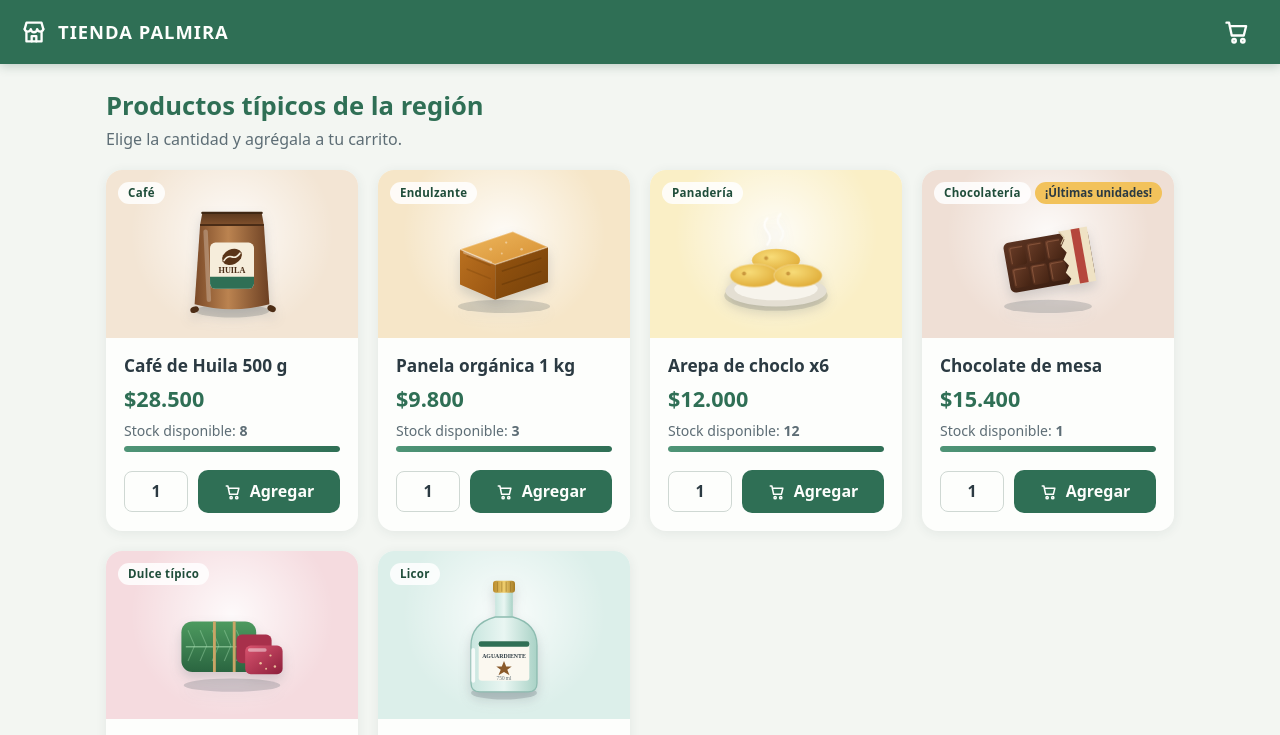
Test: Casos de prueba del instructor › 6. Panela (stock 3): agregar 2 y luego 2 más queda en 3 con toast
The image size is (1280, 735).
Replace the text in the number field named "Cantidad de Panela orgánica 1 kg" with "2" at (428, 492), box [396,471,460,512]
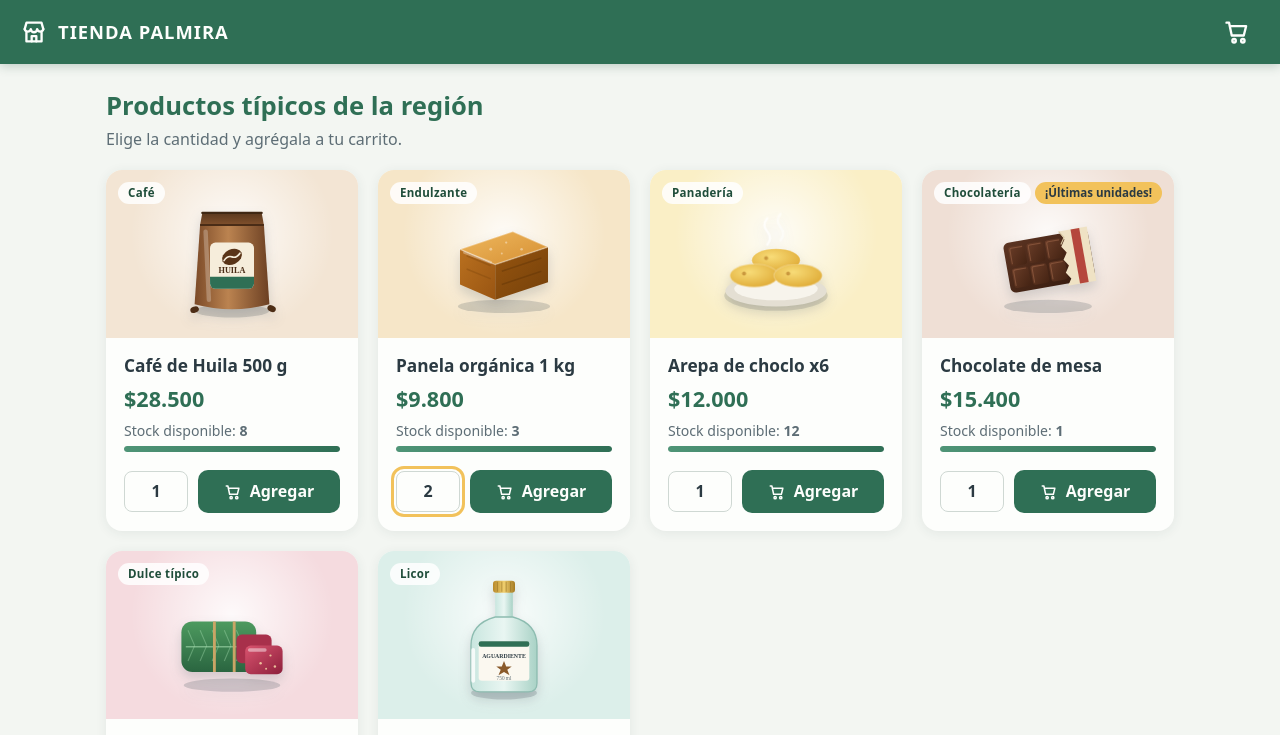
Click the button "Agregar" below "$9.800" at (541, 492), box [470,470,612,513]
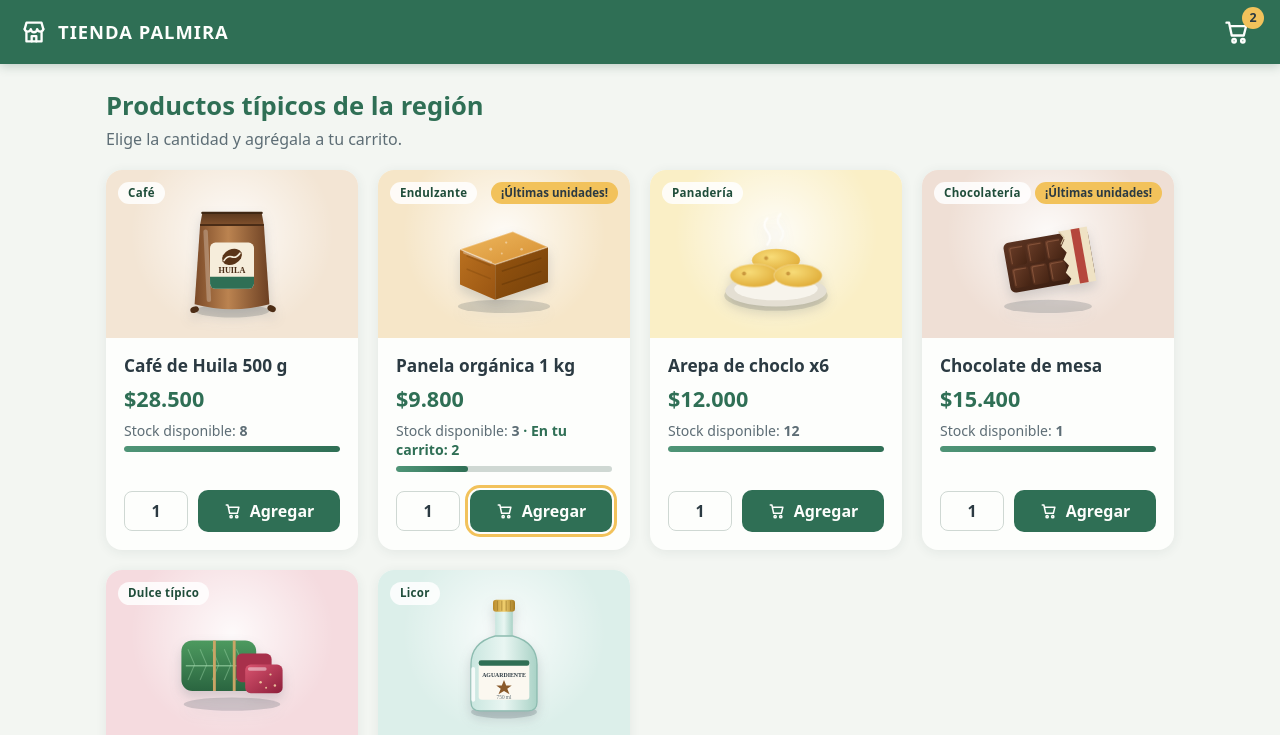
Replace the text in the number field named "Cantidad de Panela orgánica 1 kg" with "2" at (428, 511), box [396,491,460,531]
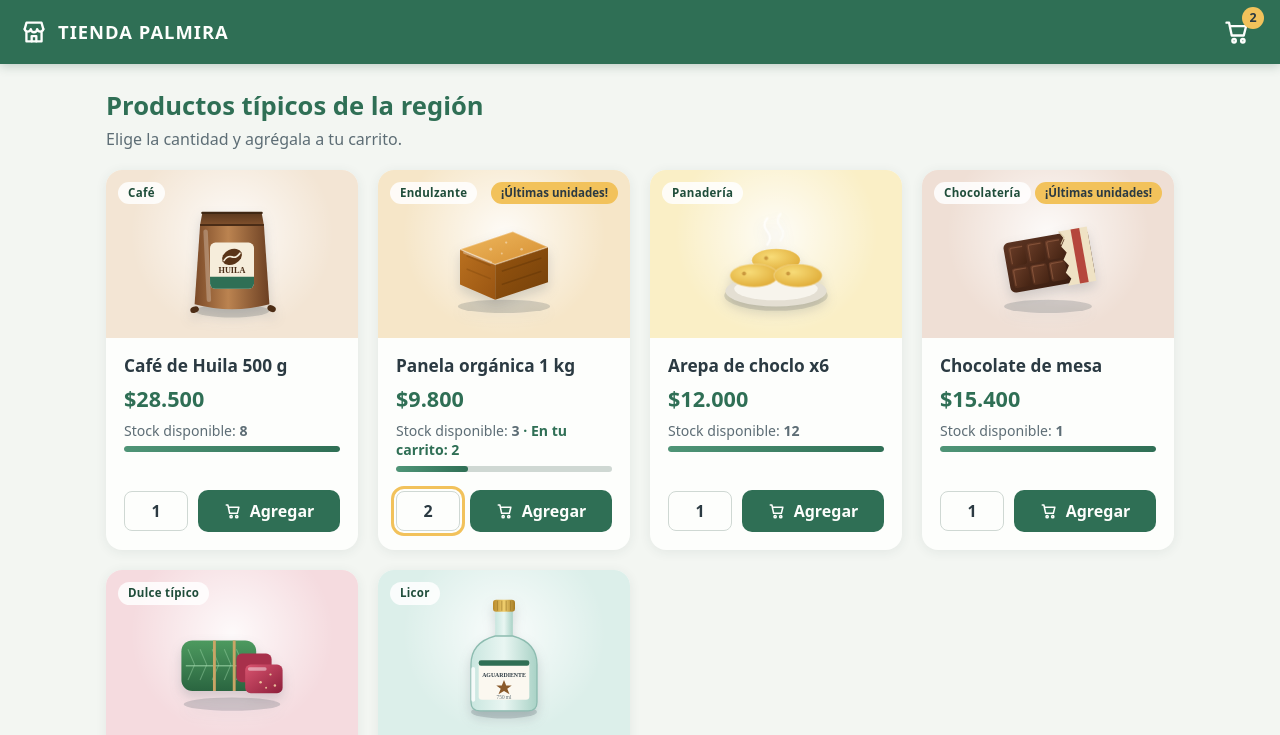
Click the button "Agregar" below "· En tu carrito:" at (541, 511), box [470,490,612,532]
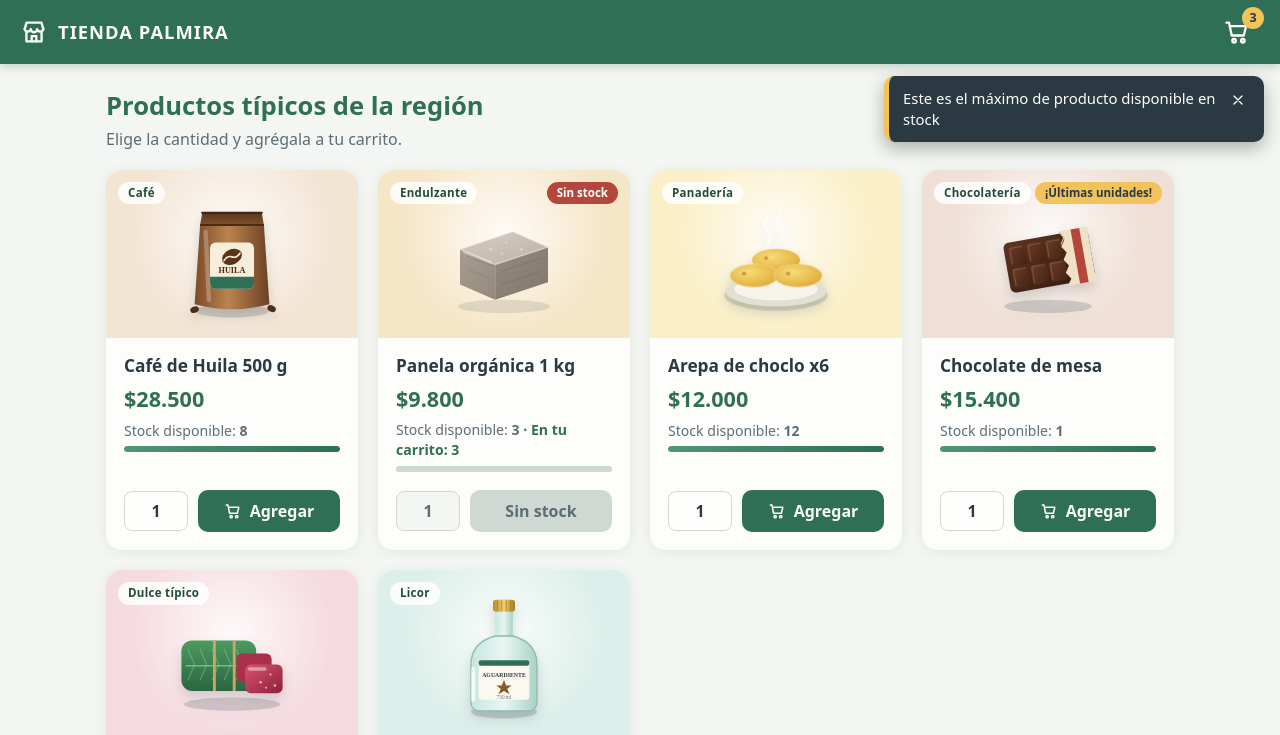
Now the text with test id "contador-carrito" reads "3", box [1249,9,1256,26]
Now the text "Este es el máximo de producto disponible en stock" is shown, box [903,88,1216,130]
